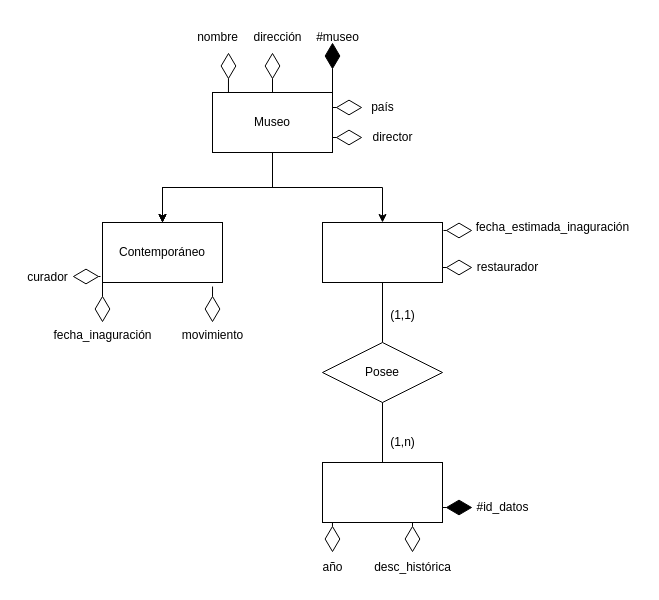
This 659x600 diagram has some shape labels left out. Each missing label, with the centre of its shape:
"Datos históricos" goes at (x=382, y=492).
"General" goes at (x=382, y=252).
